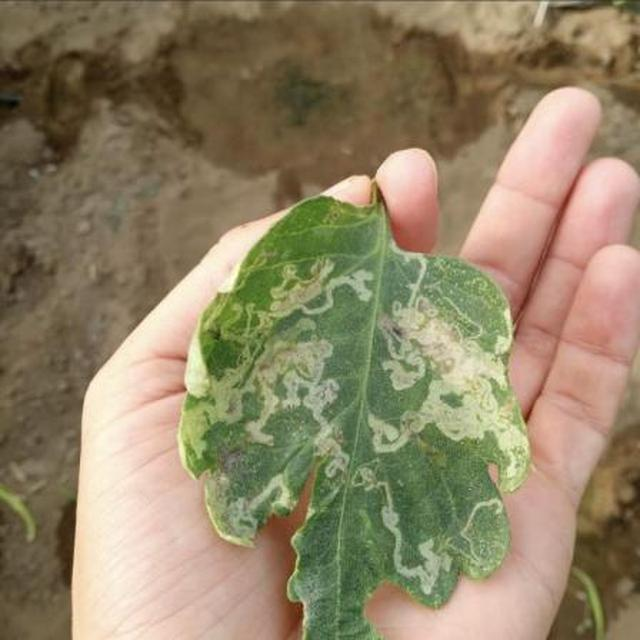Leaf Miner: (260, 271, 640, 640)
